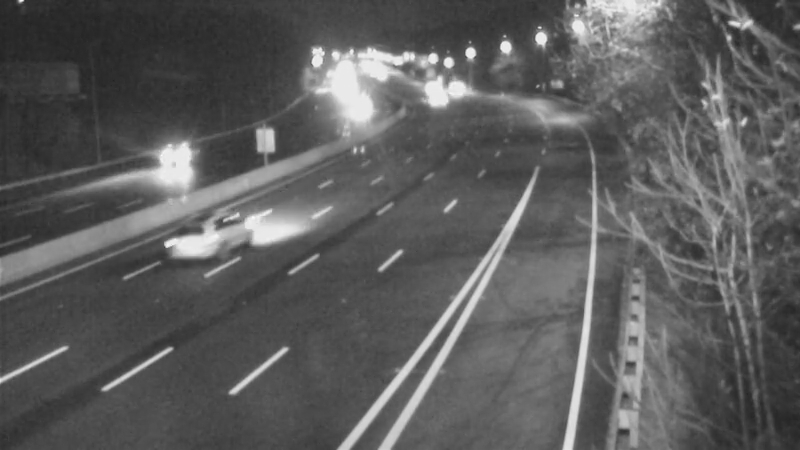vehicle: (142, 211, 222, 291), (137, 120, 217, 200), (414, 77, 464, 127)
